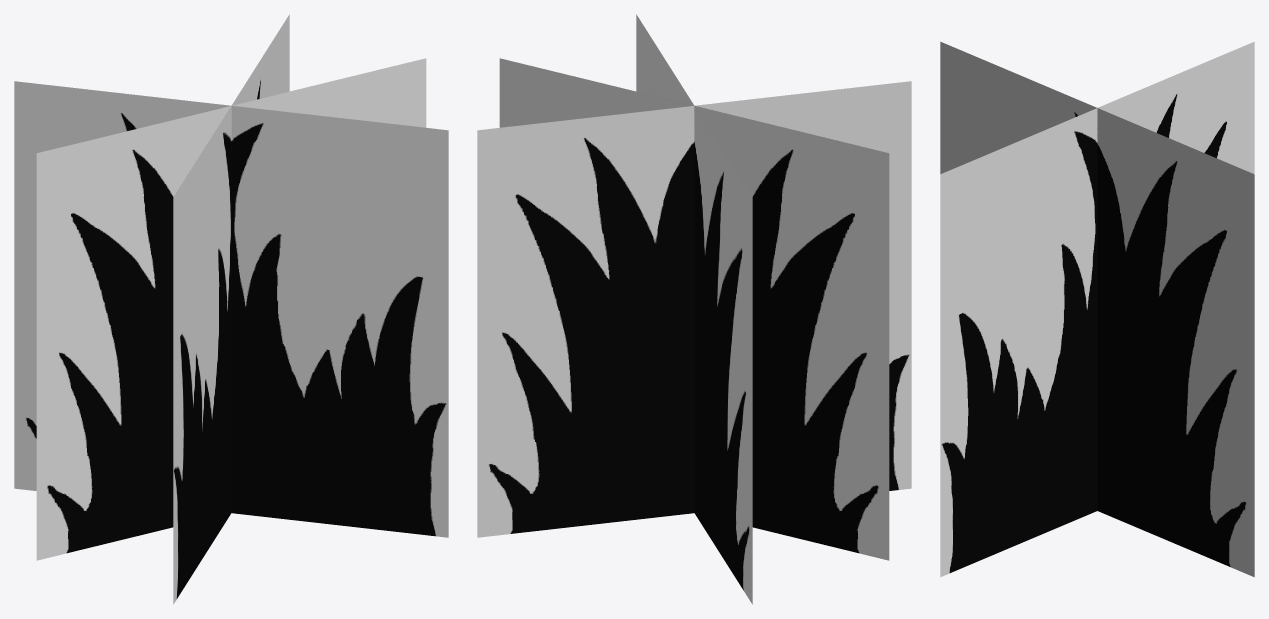
File: Grass 1.fbx
The picture shows the model from 3 angles, left to right: view 1: azimuth 30°, elevation 25°; view 2: azimuth 150°, elevation 25°; view 3: azimuth 270°, elevation 25°; orthographic projection.
Parts seen in each view (by area): view 1: pPlane4; view 2: pPlane4; view 3: pPlane4.
Boxes of the visible parts, <box> form: pPlane4: <box>14,14,448,604</box>; pPlane4: <box>477,14,911,604</box>; pPlane4: <box>940,41,1254,577</box>.
Size of the model in its own units: 1 by 1 by 0.7071.
1 material, 1 textured.
